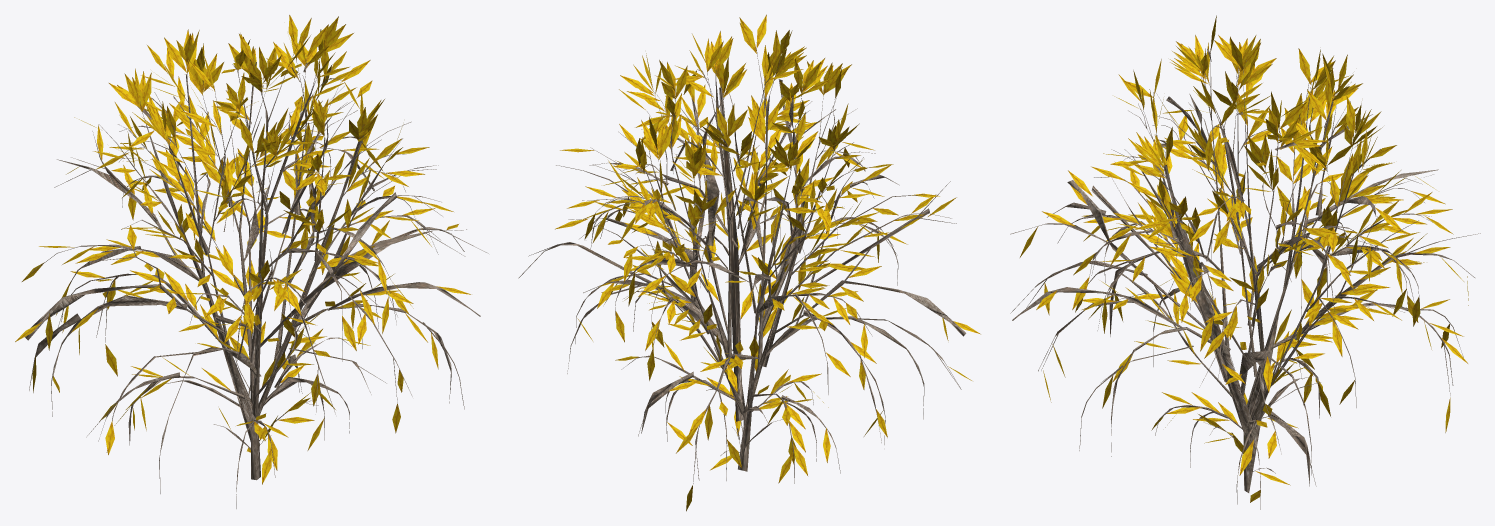
The model's file is plant4.fbx.
3 renders of one model, left to right at view 1: azimuth 30°, elevation 25°; view 2: azimuth 150°, elevation 25°; view 3: azimuth 270°, elevation 25°, orthographic. The views are drawn at different scales.
Visible parts, largest first — view 1: plant4.001; view 2: plant4.001; view 3: plant4.001.
Boxes of the visible parts, x1=… form: plant4.001: x1=15, y1=15, x2=488, y2=508; plant4.001: x1=518, y1=14, x2=980, y2=511; plant4.001: x1=1010, y1=15, x2=1480, y2=509.
Bounding box in the file's own units: 582 × 541 × 500.
2 materials, 2 textured.
